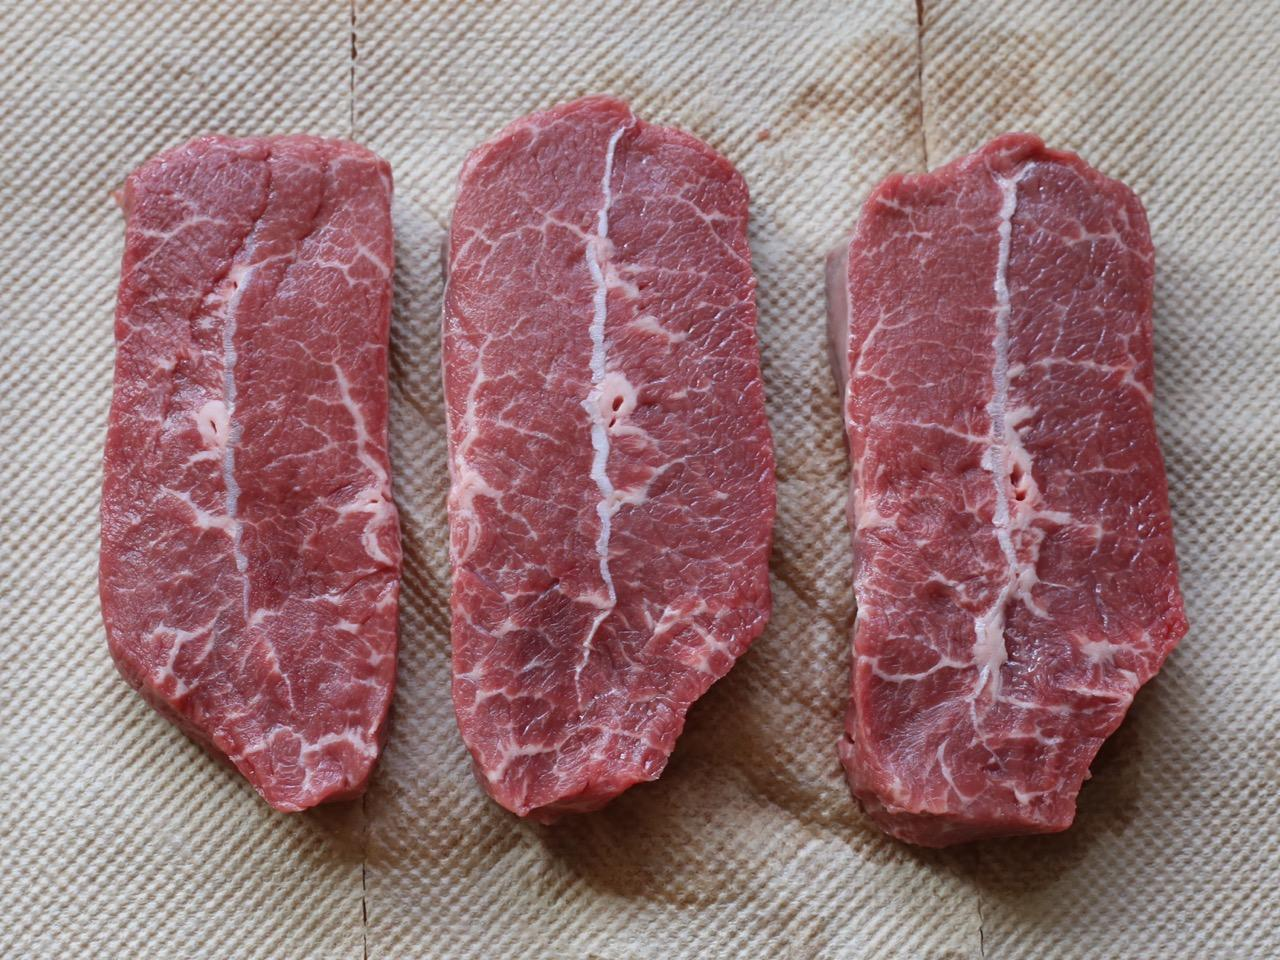beef: (290, 252, 744, 960), (938, 228, 1280, 960), (1038, 261, 1280, 960)
